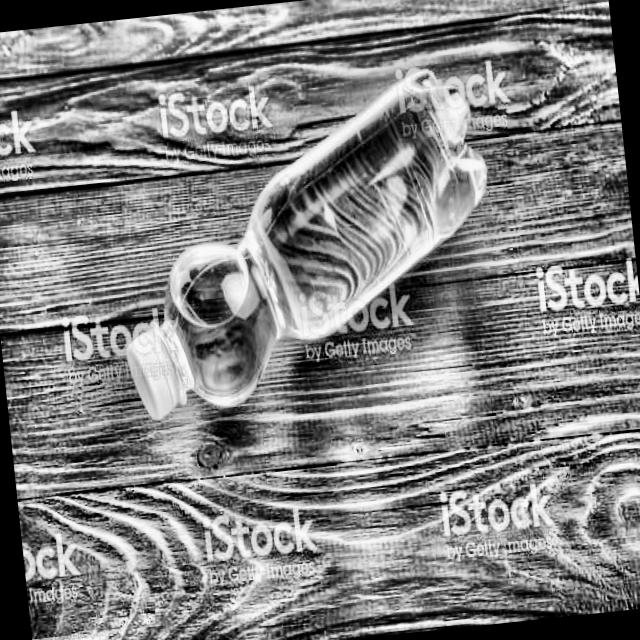waterbottle: (82, 51, 520, 438)
